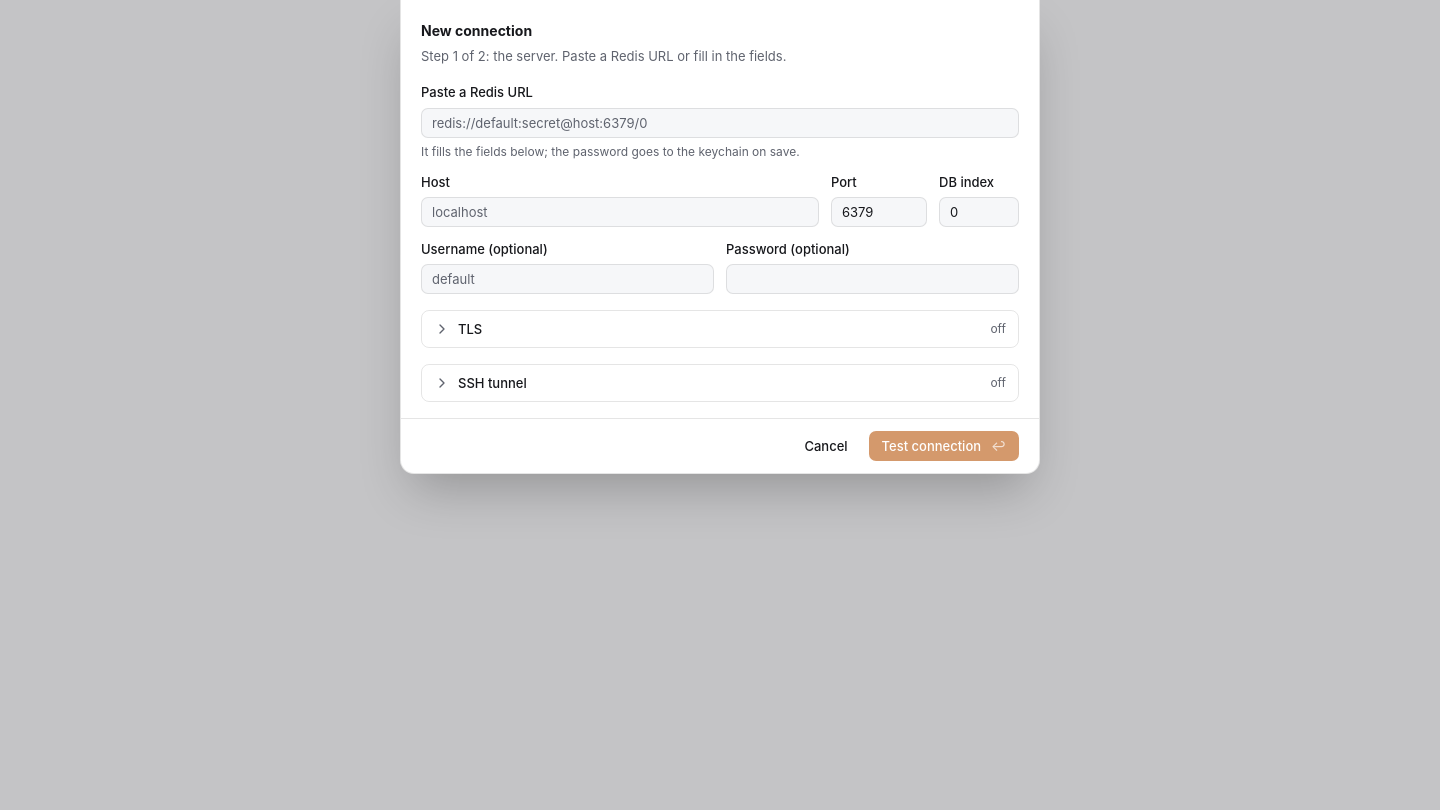
Test: ConnectionSheet: step 1, the server › pasting a URL fills host, port, database, user, password and TLS
Type "rediss://alice:secret@redis.example.com:6380/2" into the field labelled "Paste a Redis URL" at {"x": 720, "y": 123}, box left=421, top=108, right=1019, bottom=138
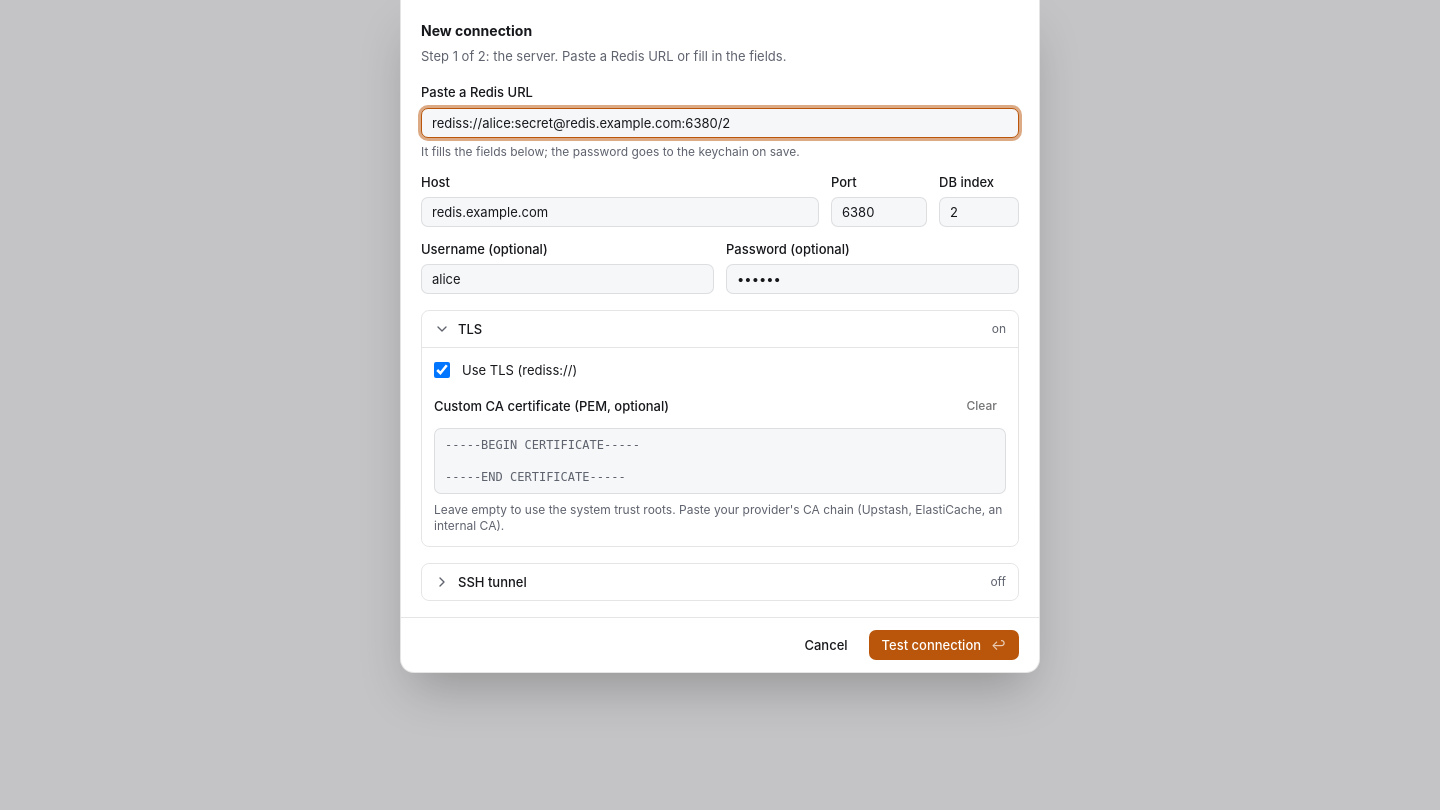
Now the field labelled "Host" holds "redis.example.com", box left=421, top=197, right=819, bottom=227
Now the number field labelled "Port" holds "6380", box left=831, top=197, right=927, bottom=227
Now the number field labelled "DB index" holds "2", box left=939, top=197, right=1019, bottom=227
